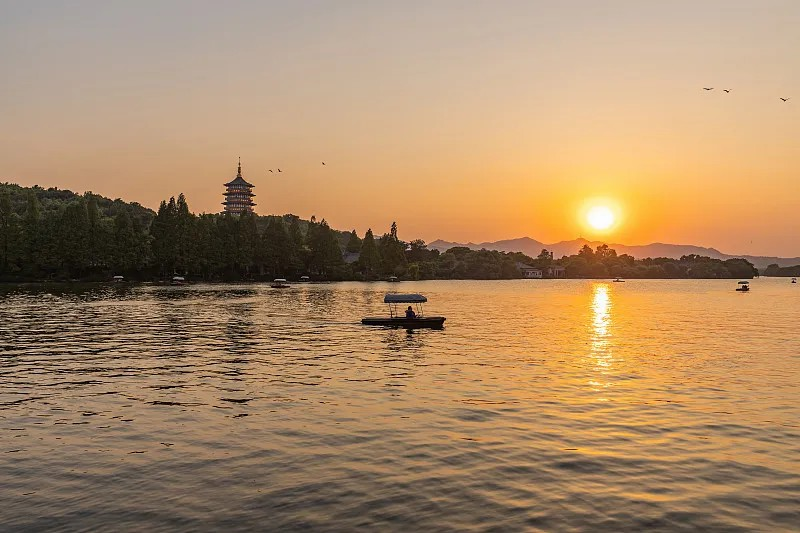Leifeng: (219, 156, 258, 220)
